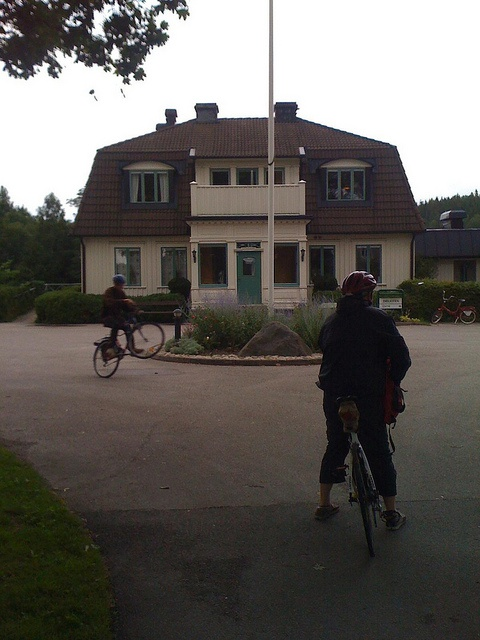non-vehicle: (331, 395, 384, 558), (90, 300, 167, 379), (431, 289, 476, 324)
